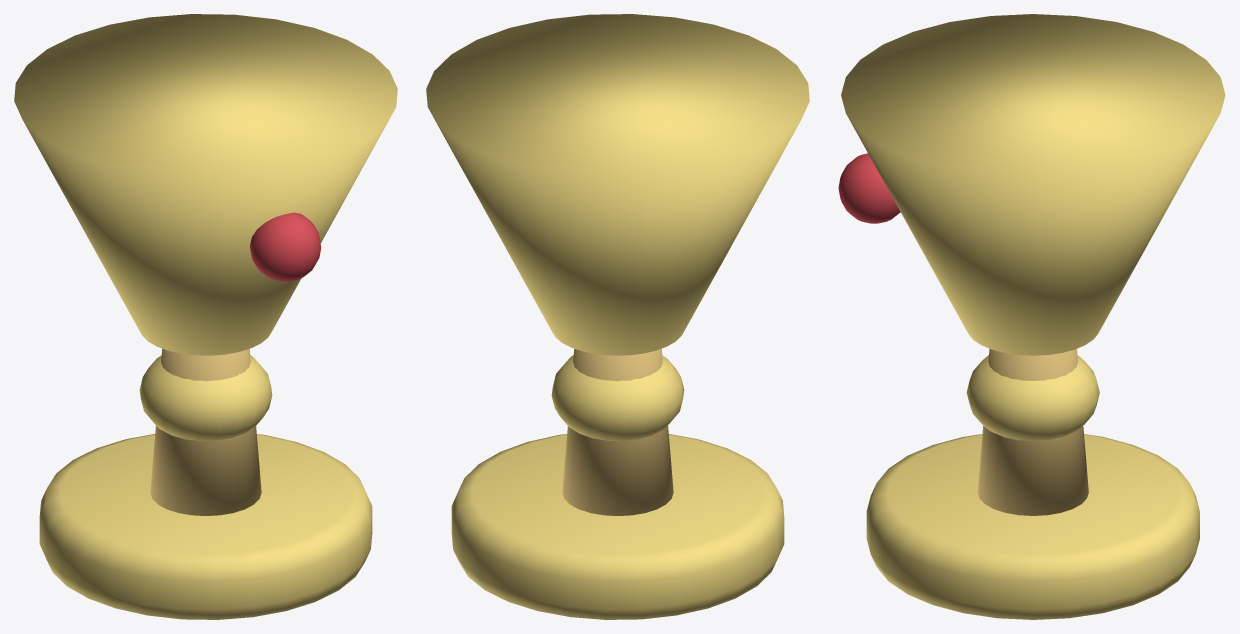
Rendered from SM_Art_Chalice.fbx.
3 views of the same model, side by side, from view 1: azimuth 30°, elevation 25°; view 2: azimuth 150°, elevation 25°; view 3: azimuth 270°, elevation 25° (orthographic).
Visible parts, largest first — view 1: Cup, Foot, Stem, Knop, Gem; view 2: Cup, Foot, Stem, Knop; view 3: Cup, Foot, Stem, Knop, Gem.
Part boxes in pixels (left/top/right/bottom): Cup: left=14, top=14, right=397, bottom=355; Foot: left=39, top=434, right=372, bottom=619; Stem: left=150, top=348, right=261, bottom=515; Knop: left=139, top=355, right=272, bottom=441; Gem: left=250, top=212, right=321, bottom=281; Cup: left=426, top=14, right=809, bottom=355; Foot: left=451, top=434, right=784, bottom=619; Stem: left=562, top=348, right=673, bottom=515; Knop: left=551, top=355, right=684, bottom=441; Cup: left=841, top=14, right=1225, bottom=355; Foot: left=866, top=434, right=1199, bottom=619; Stem: left=977, top=349, right=1088, bottom=515; Knop: left=966, top=355, right=1099, bottom=440; Gem: left=838, top=153, right=900, bottom=223.
Bounding box in the file's own units: 0.15 × 0.199 × 0.151.
